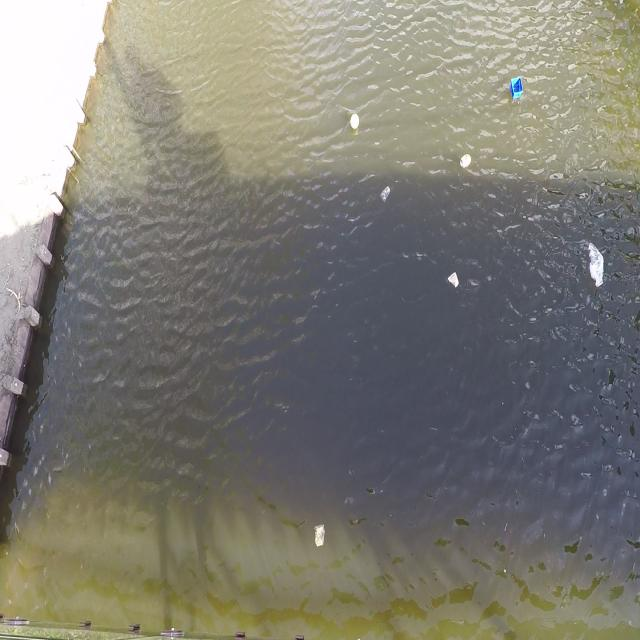Autre plastique: (506, 72, 527, 105)
Non plastique: (456, 147, 475, 176)
Sac plastique: (583, 232, 608, 299)
